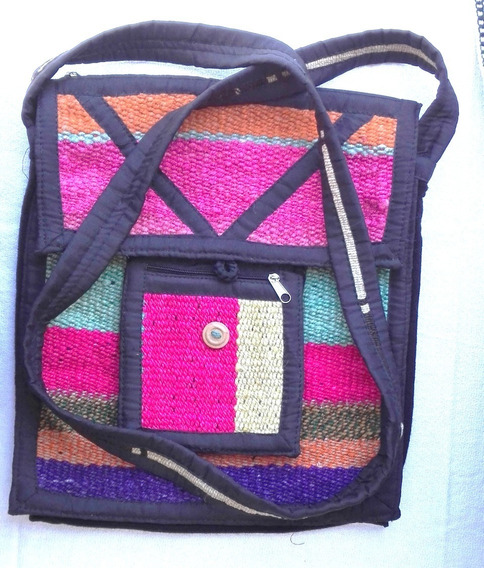cartera: (7, 19, 459, 537)
